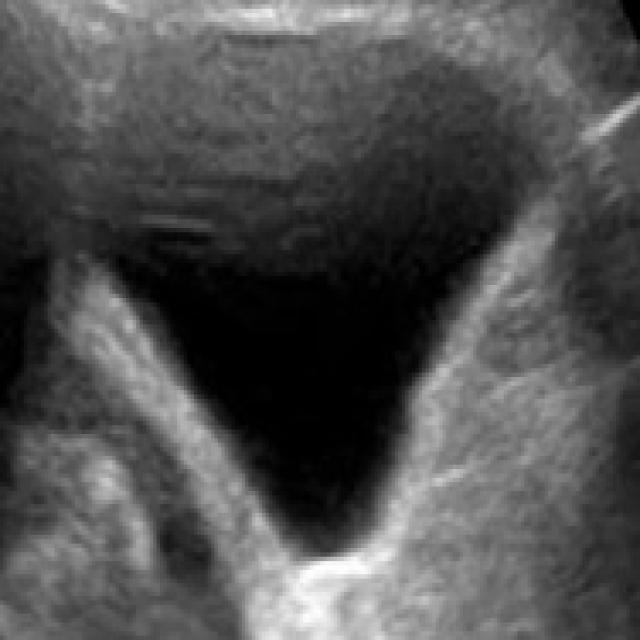bladder: (62, 5, 556, 602)
